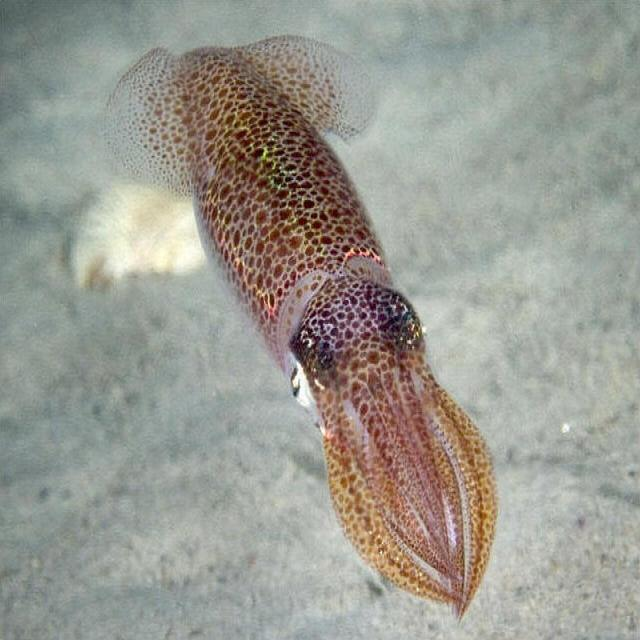SQUID: (87, 21, 520, 640)
